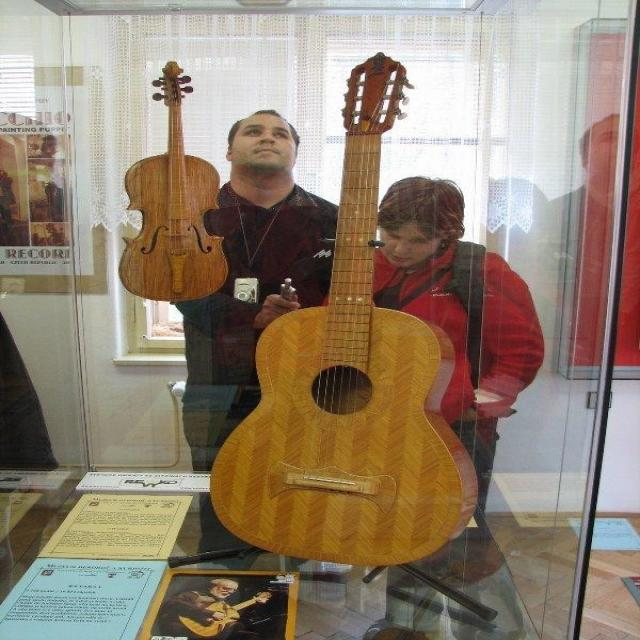guitar: (198, 50, 485, 569), (167, 590, 274, 636)
violin: (111, 60, 232, 302)
